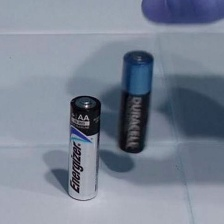battery: (114, 47, 157, 156), (63, 93, 103, 202)
